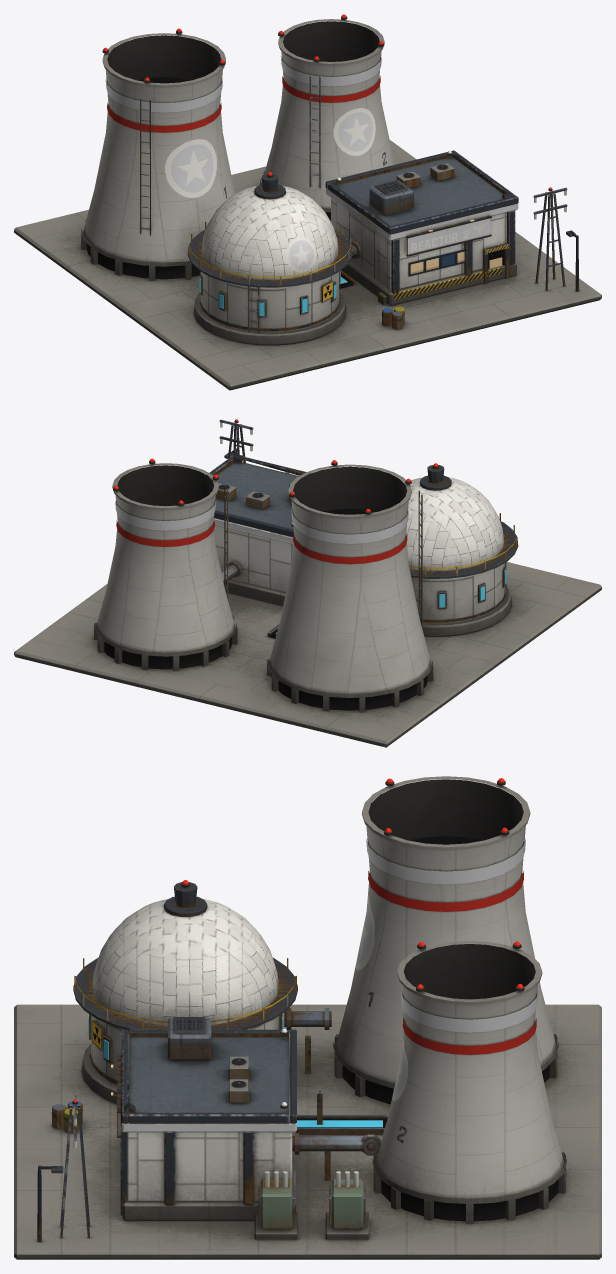
Rendered from apwr.allies.glb.
The picture shows the model from 3 angles, top to bottom: view 1: azimuth 30°, elevation 25°; view 2: azimuth 150°, elevation 25°; view 3: azimuth 270°, elevation 25°; orthographic projection. The views are drawn at different scales.
Visible parts, largest first — view 1: root_mesh; view 2: root_mesh; view 3: root_mesh.
Boxes of the visible parts, x1,y1,x2,y2 form: root_mesh: [14, 14, 601, 390]; root_mesh: [14, 419, 601, 747]; root_mesh: [14, 776, 601, 1259].
Bounding box in the file's own units: 2.98 × 1.52 × 2.98.
1 material, 1 textured.
